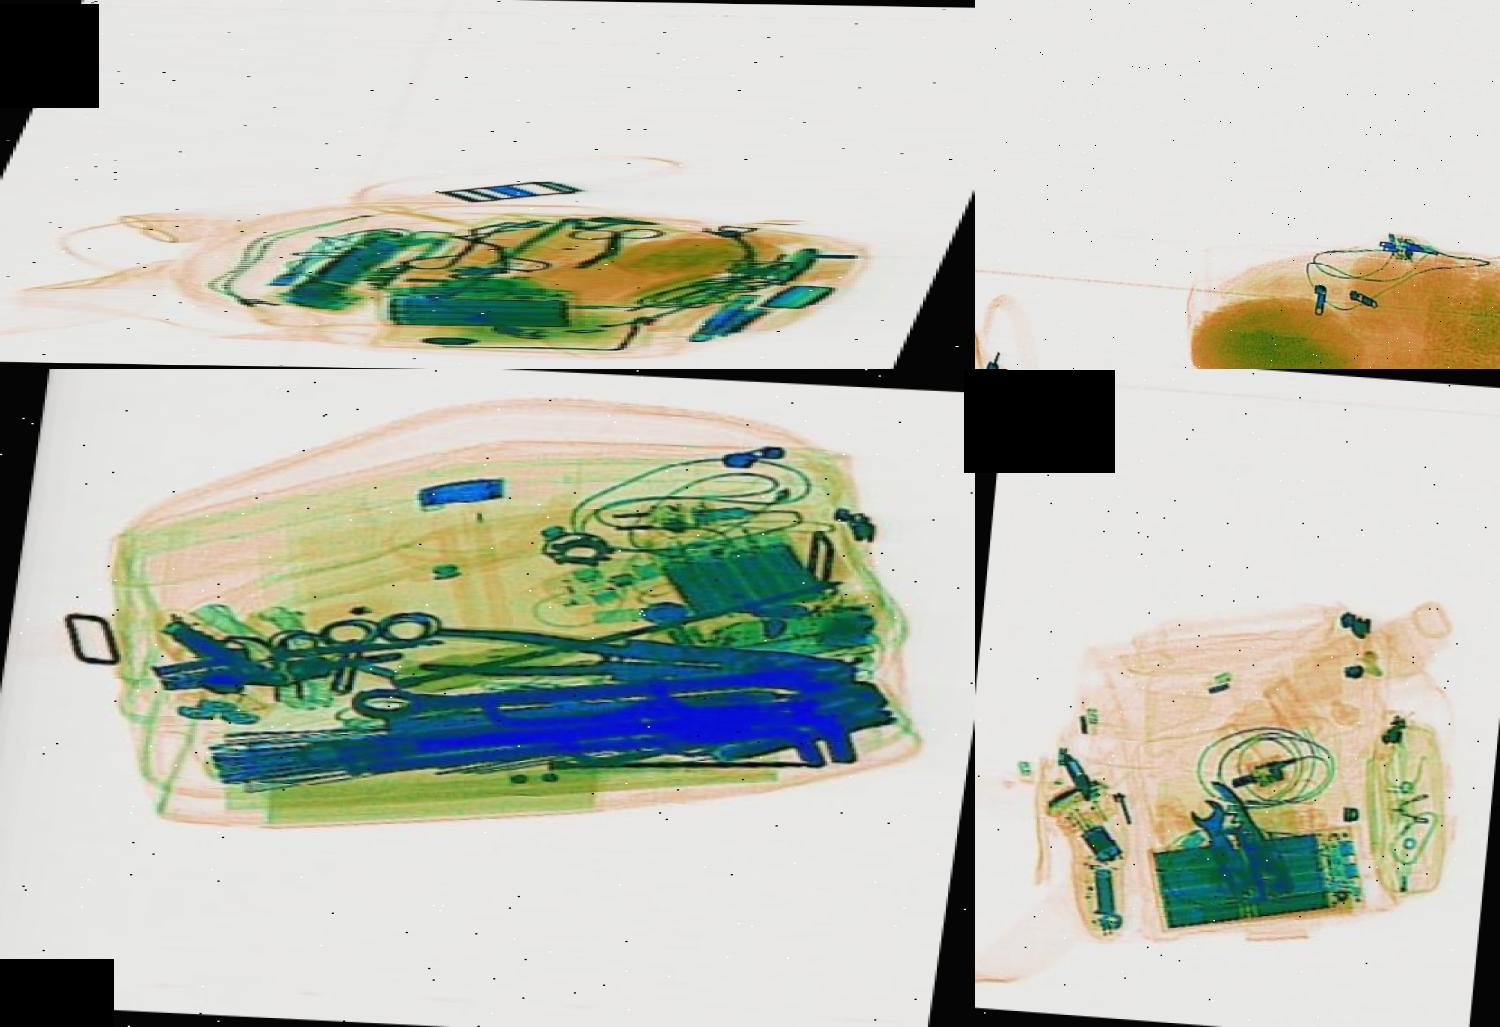Knife: (1190, 771, 1307, 904)
Pliers: (411, 621, 841, 695)
Scissors: (555, 225, 669, 254)
Wrench: (339, 630, 848, 744), (1175, 788, 1259, 895)
